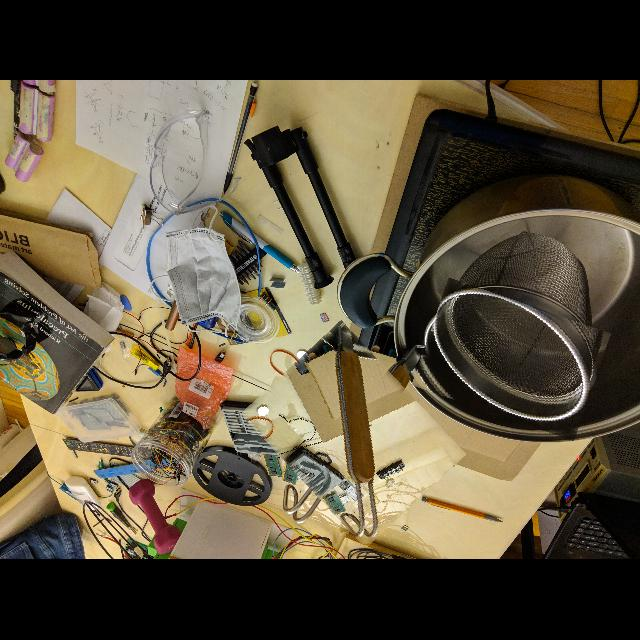Handle: (262, 331, 444, 537)
Strainer: (420, 290, 604, 428)
